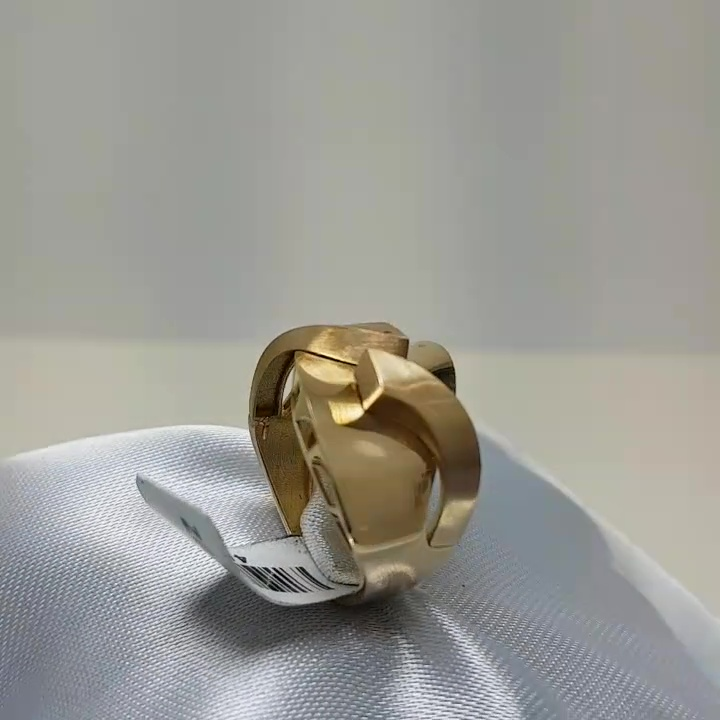Ring 4: (228, 293, 501, 617)
